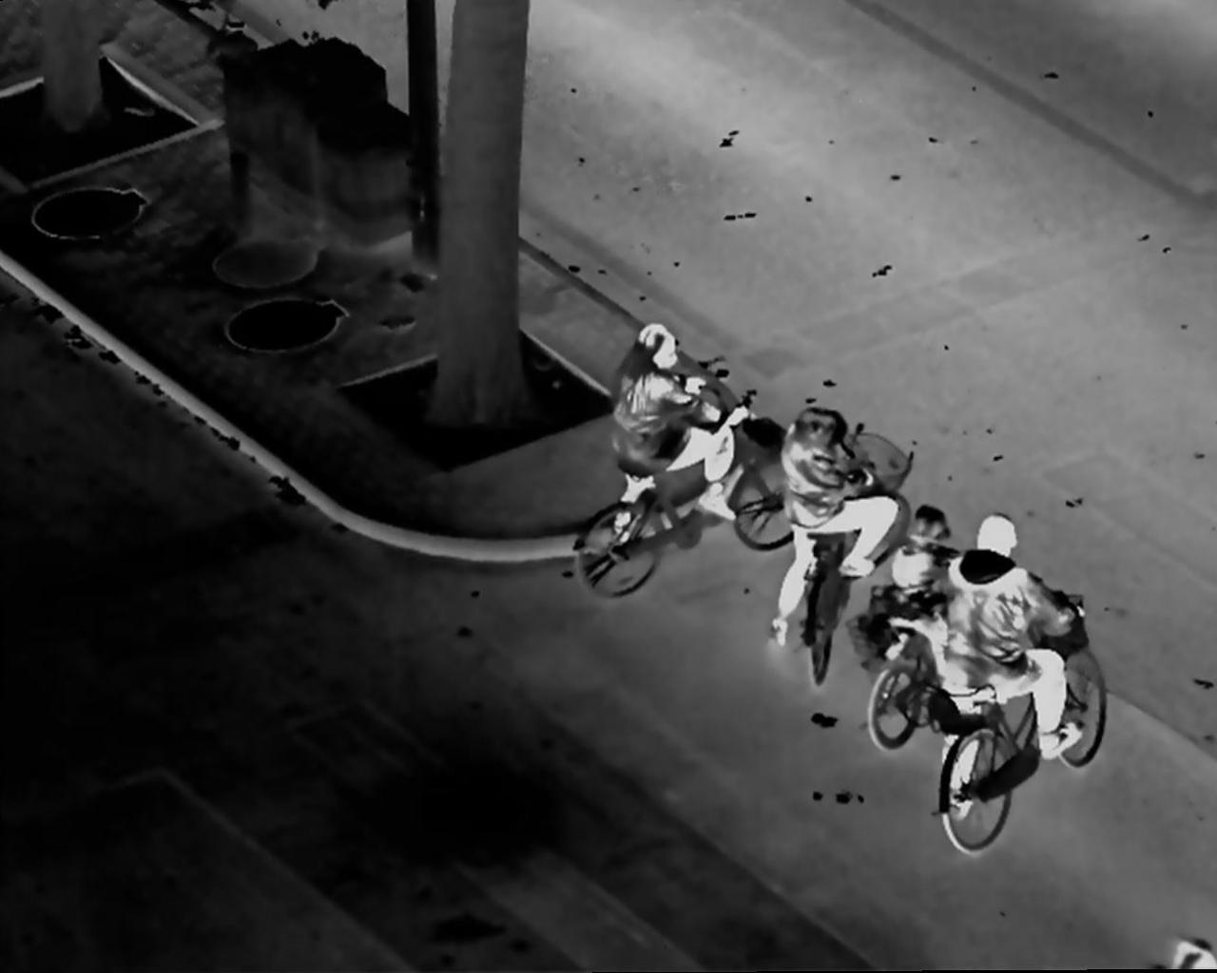person: (938, 512, 1097, 818), (601, 321, 754, 542), (769, 398, 900, 652), (883, 505, 968, 709)
